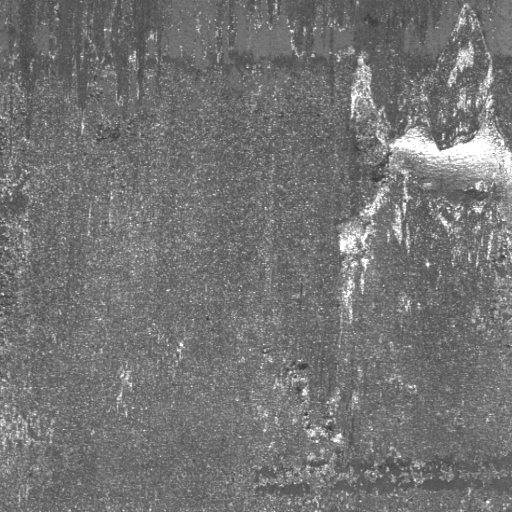qiaopi: (334, 1, 511, 269)
